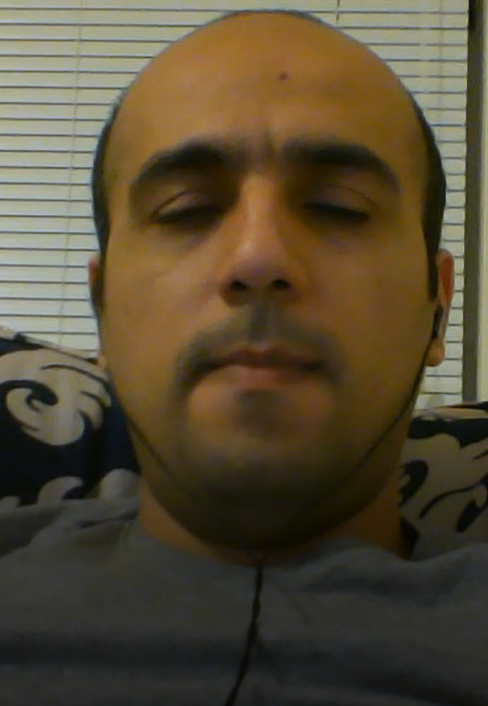Sleeping: (131, 130, 399, 252)
